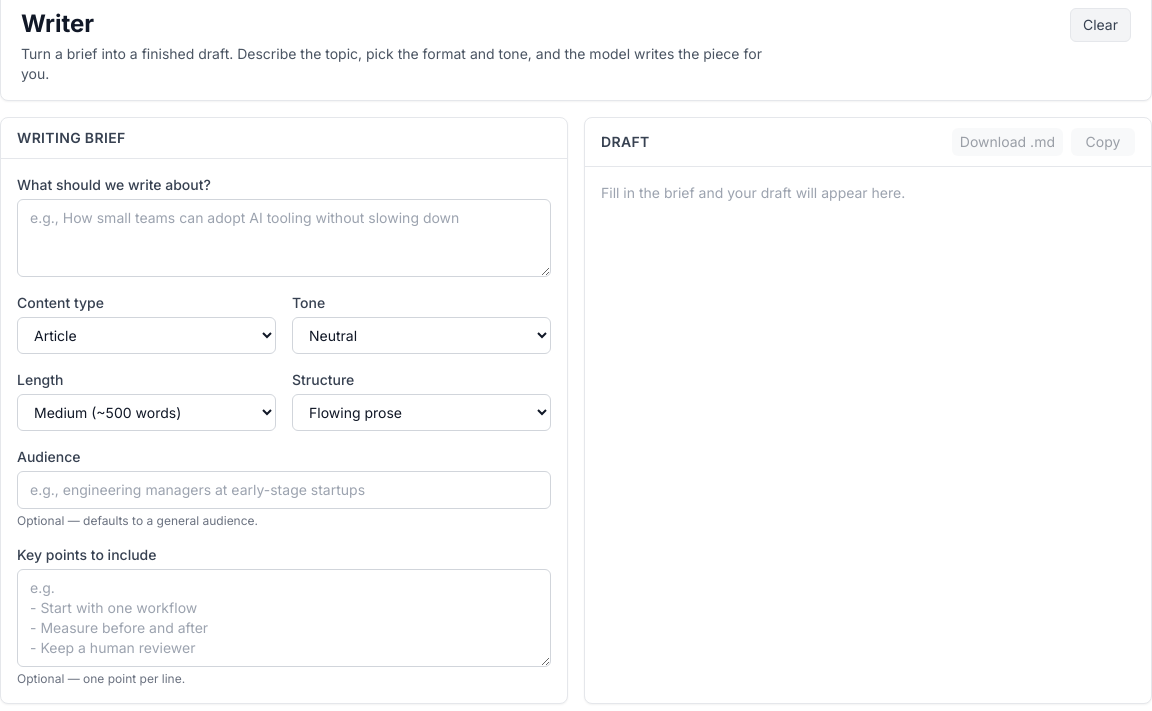
current context from every text page › Writer sends its current controls and source to its own endpoint
Replace the text in the text box with id "writer-topic" with "Our current project": (284, 238) [17, 199, 551, 277]
Select "Report" in the dropdown with id "writer-type": (146, 336) [17, 317, 276, 354]
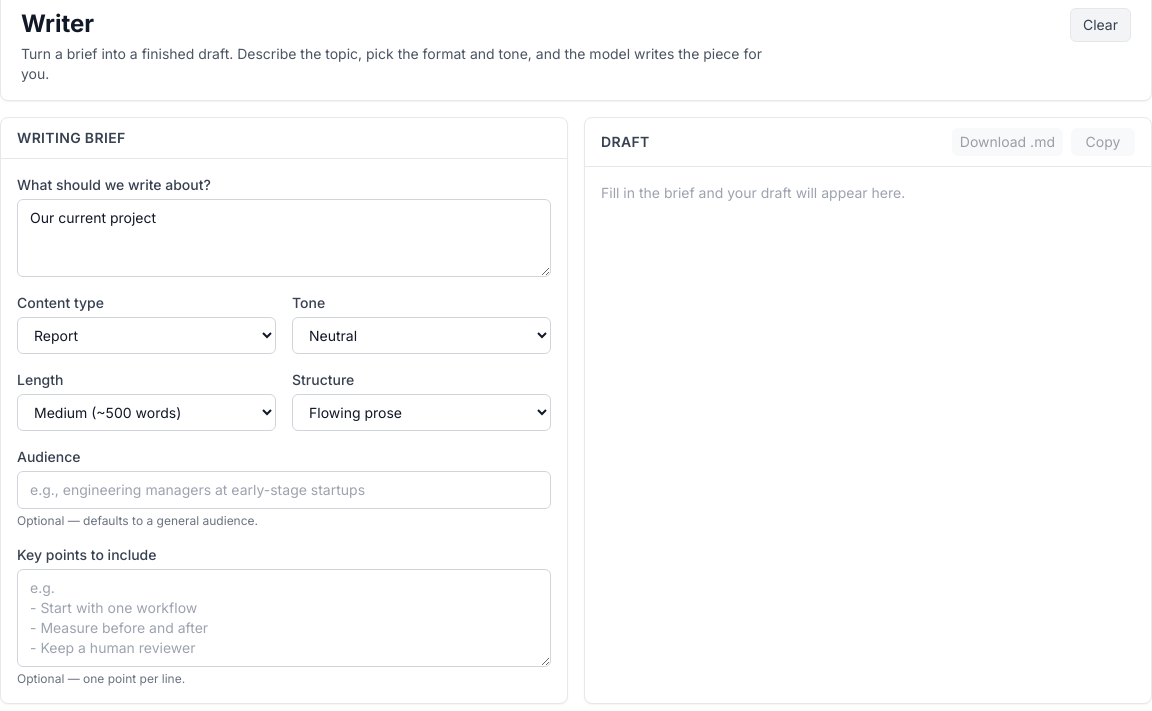
Select "Professional" in the dropdown with id "writer-tone": (422, 336) [292, 317, 551, 354]
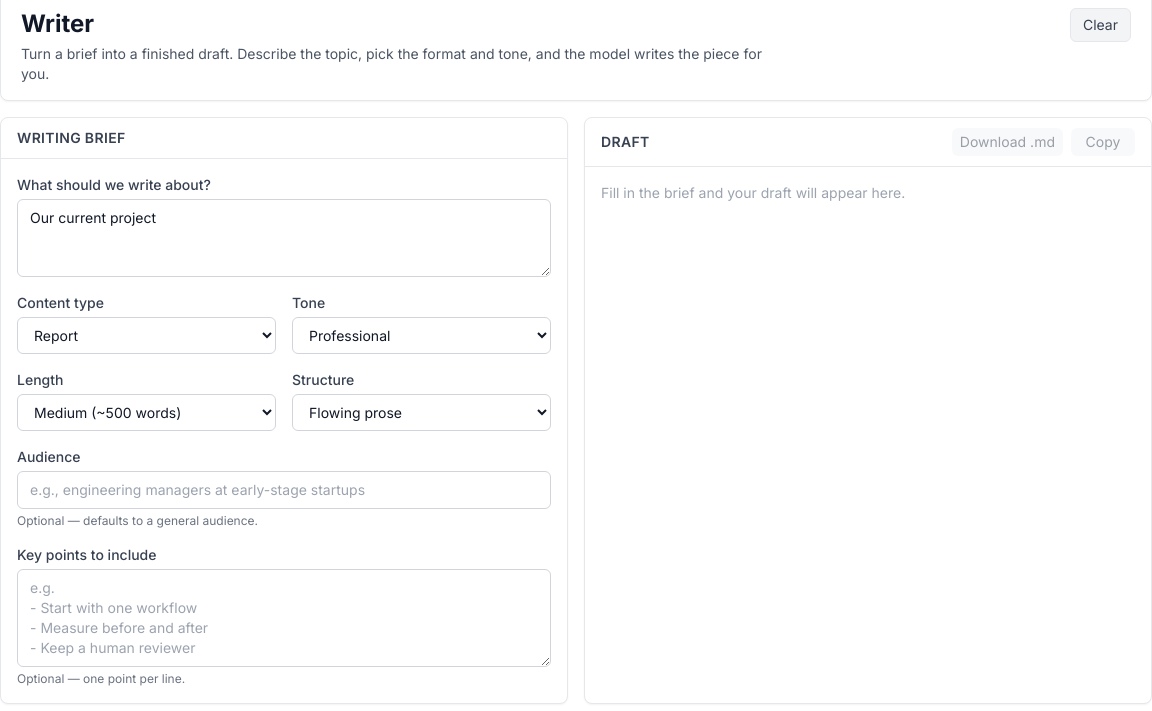
Select "Short (~200 words)" in the dropdown with id "writer-length": (146, 412) [17, 394, 276, 431]
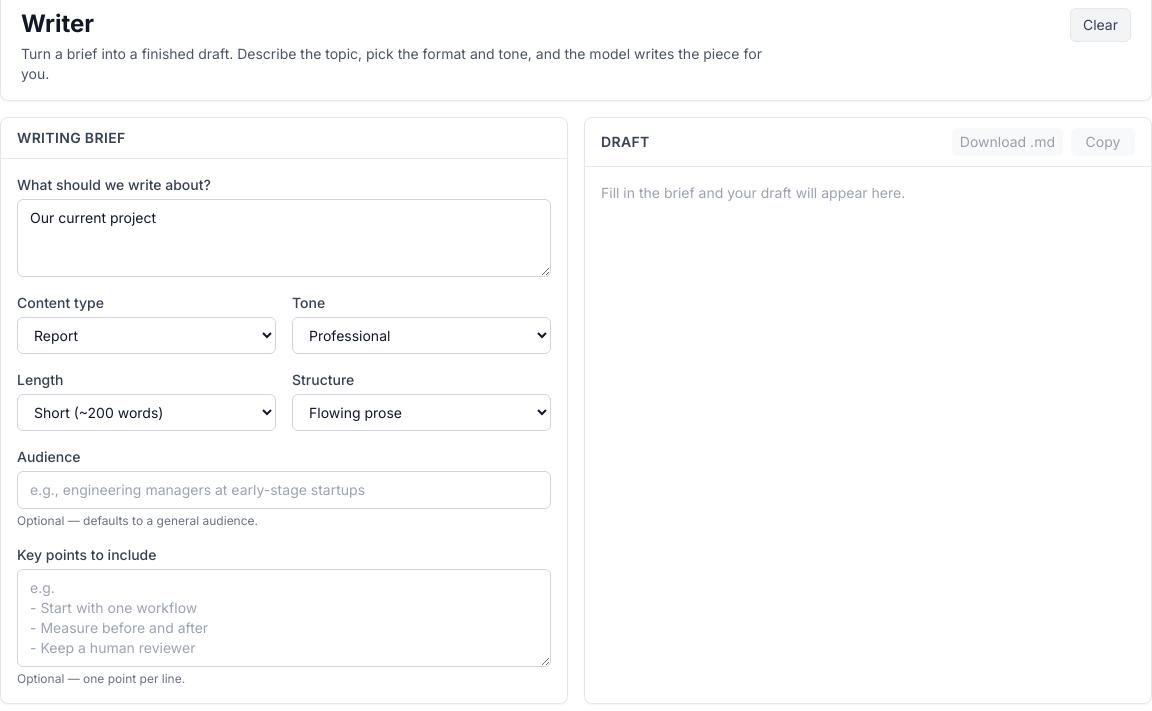
In the field with id "writer-audience": (284, 490) [17, 471, 551, 509], type "engineers"
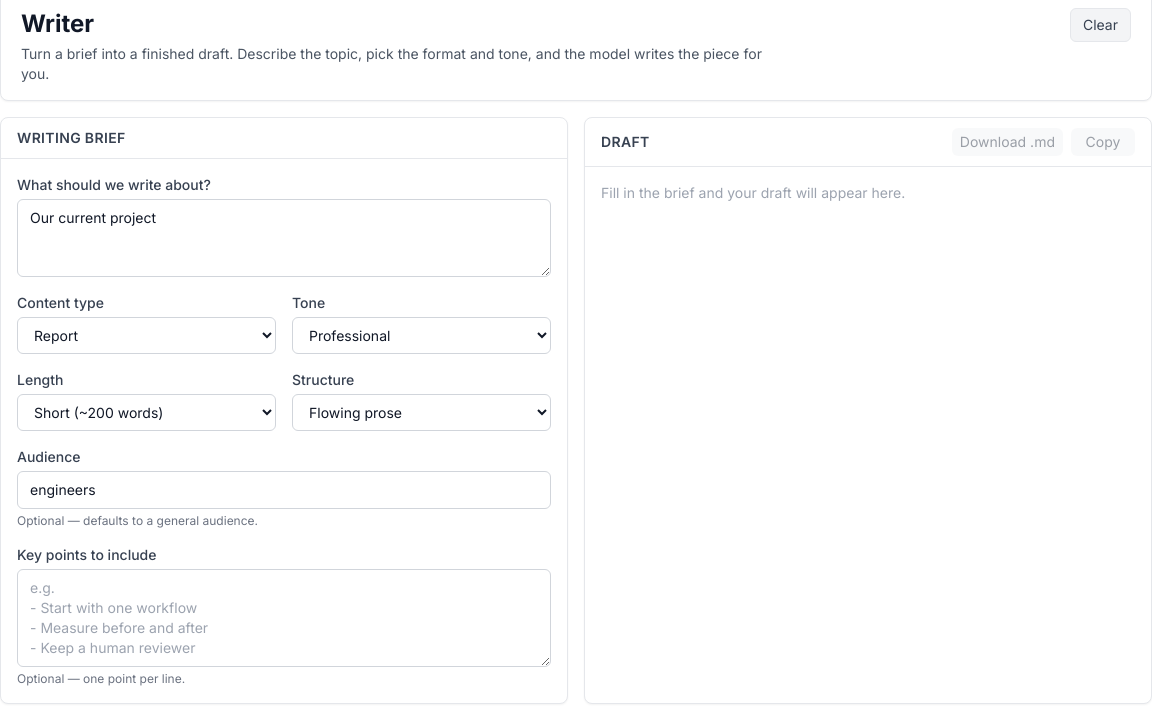
Replace the text in the text box with id "writer-key-points" with "Launch on Monday": (284, 618) [17, 569, 551, 667]
(page scrolled)
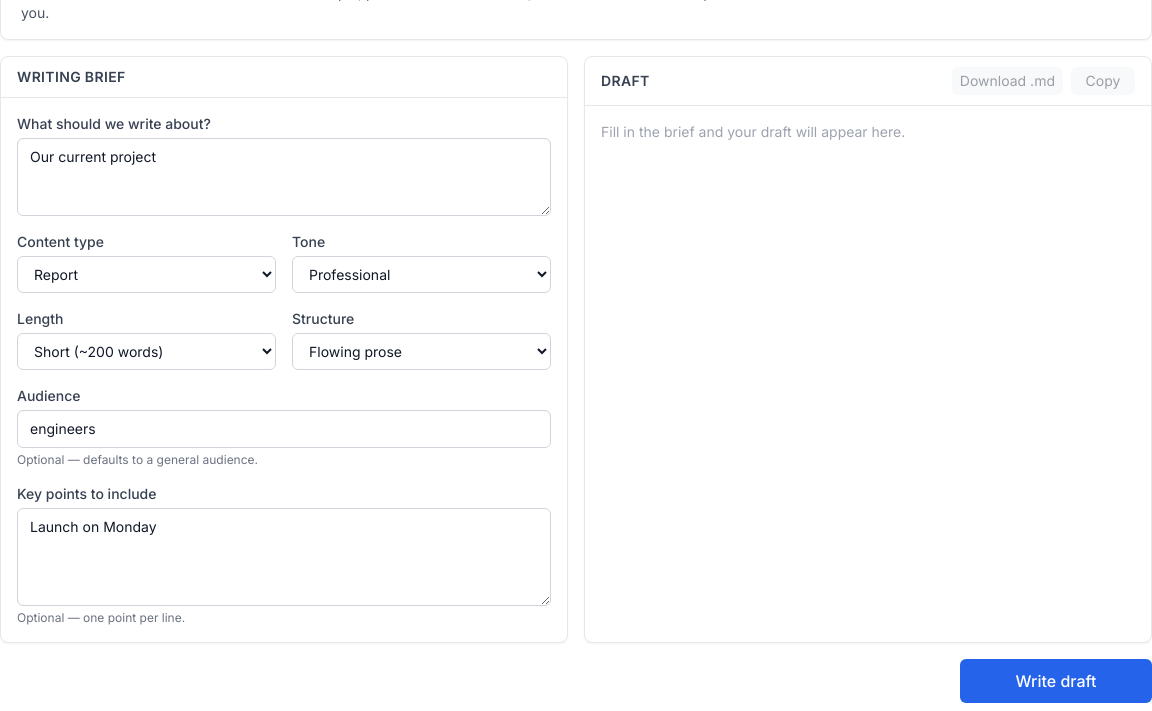
Click the button "Write draft": (1056, 681) [960, 659, 1151, 703]
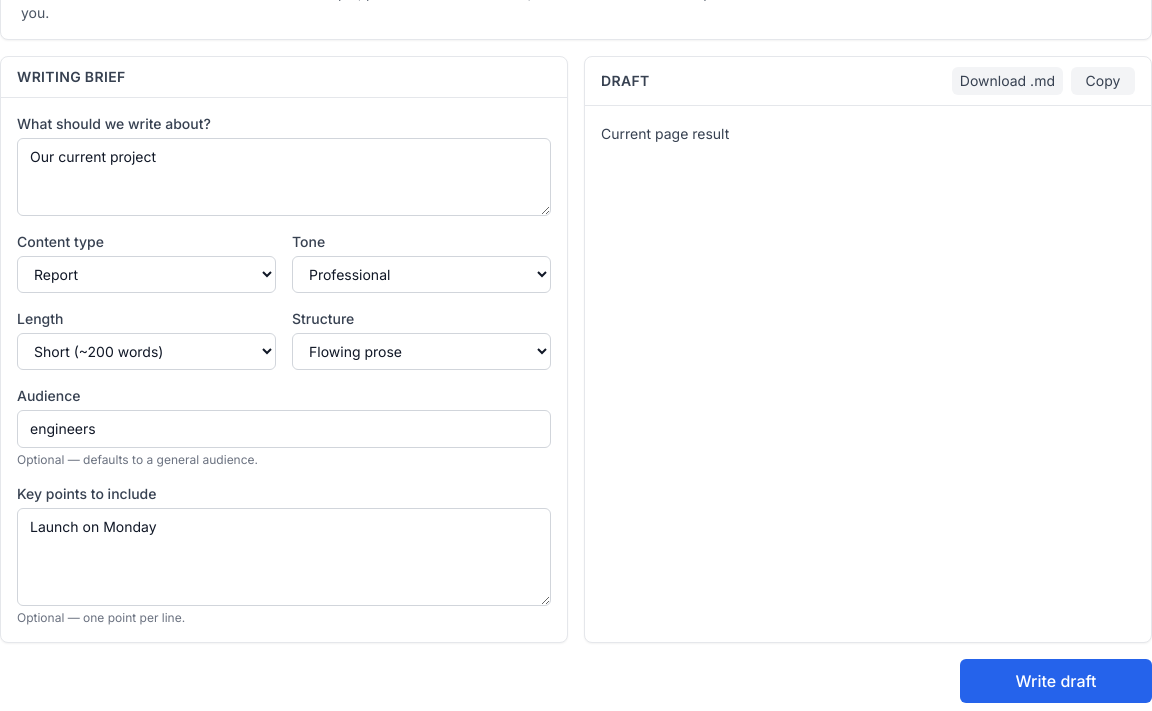
Expected: the text "Current page result" is shown, [601, 125, 729, 142]
